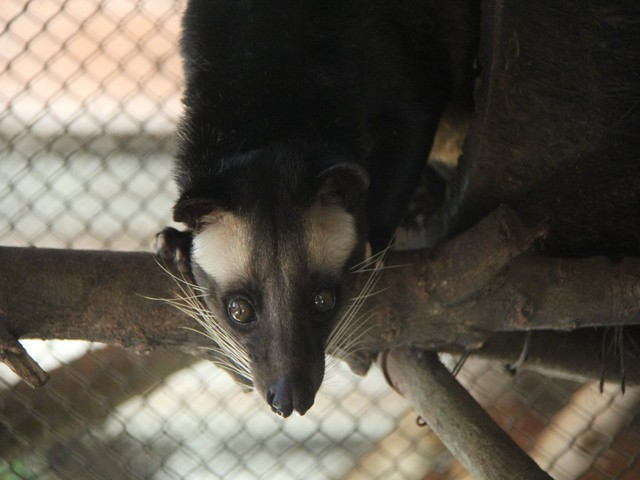civet: (150, 1, 491, 418)
